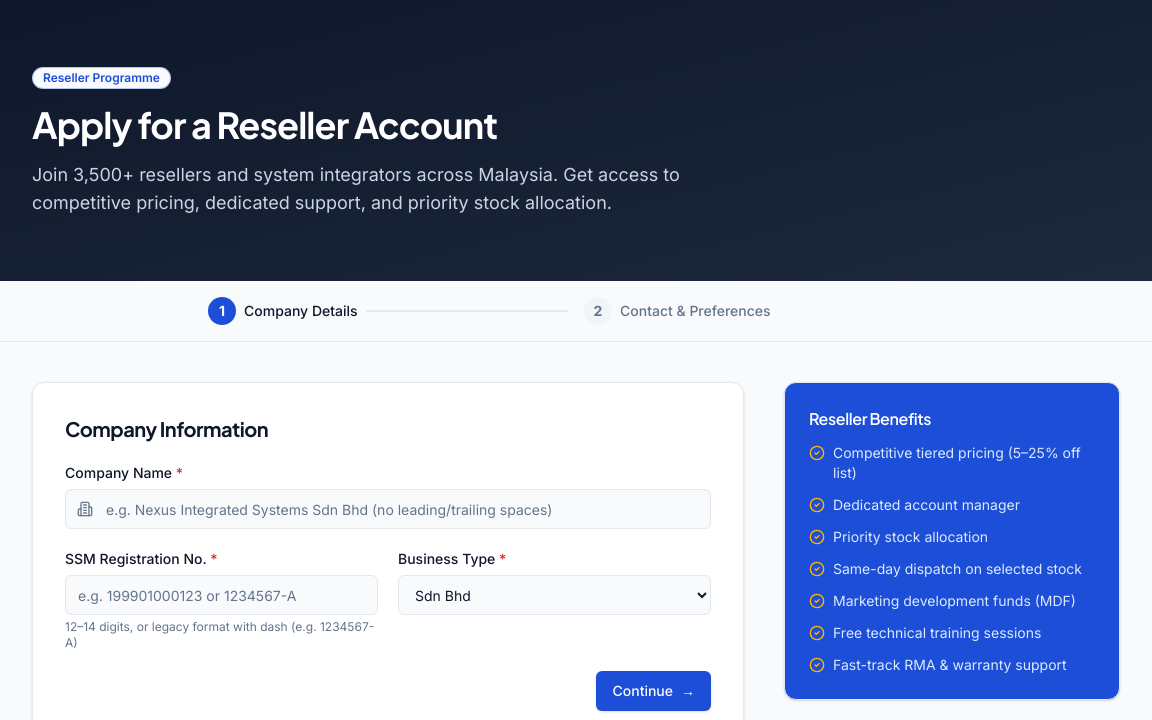
Test: ResellerRegisterPage › step 1 validation › shows error when SSM number is invalid
In the field named "companyName": (388, 509) [65, 489, 711, 529], type "Test Company"
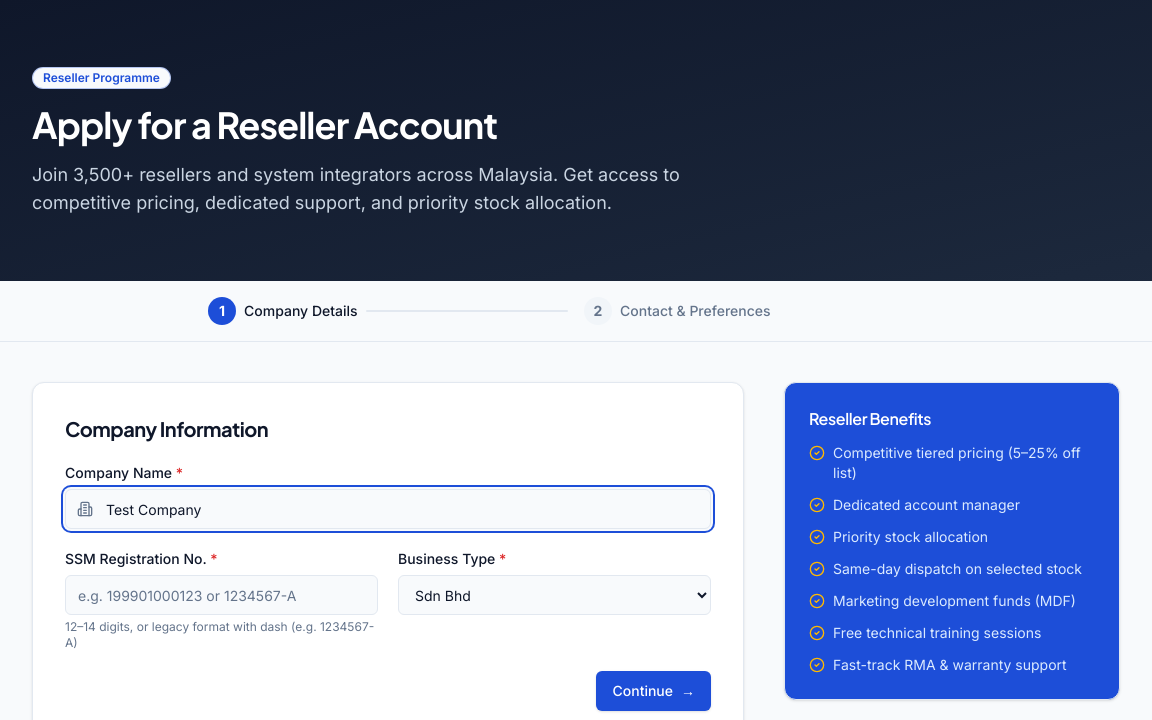
In the field named "ssmNumber": (222, 595) [65, 575, 378, 615], type "invalid"
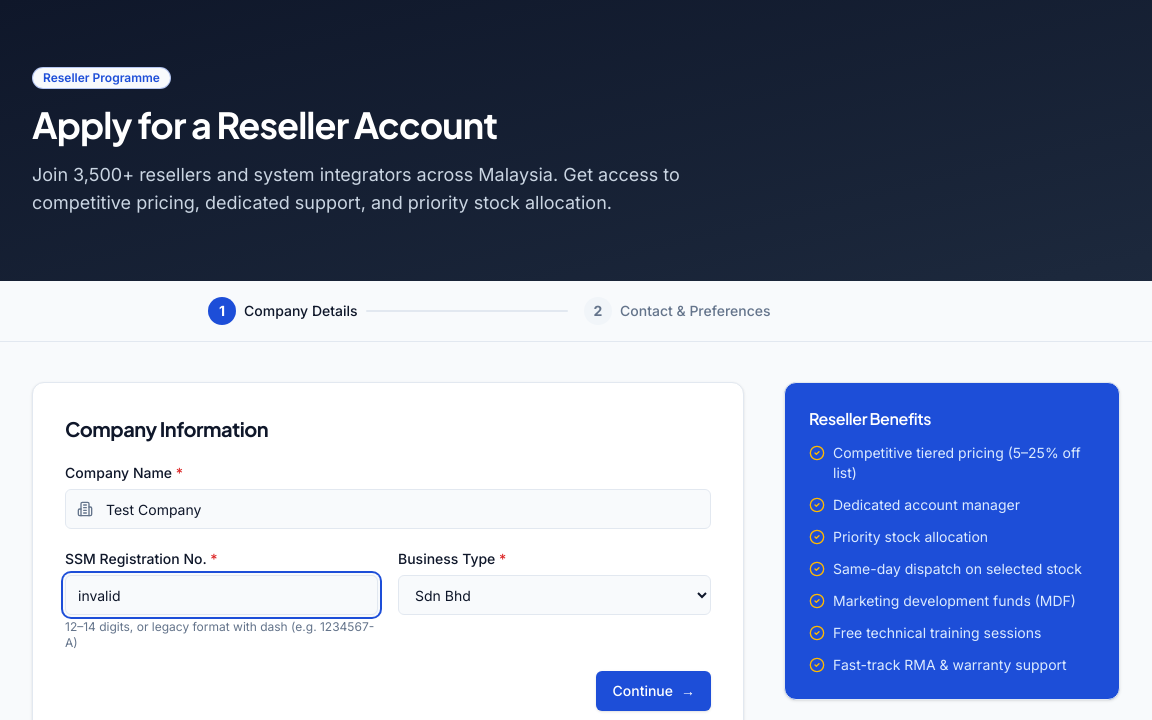
Click the button "Continue →": (654, 691) [596, 671, 711, 711]
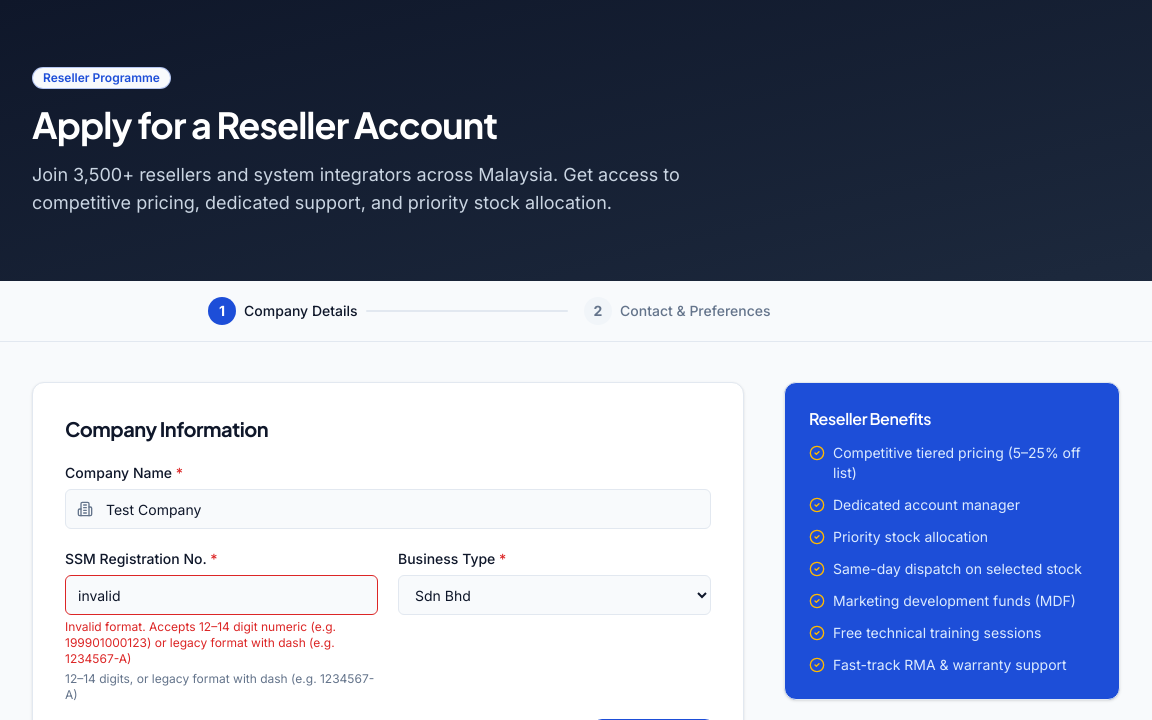
Check: the text "Invalid format" is shown, box [65, 619, 336, 666]
